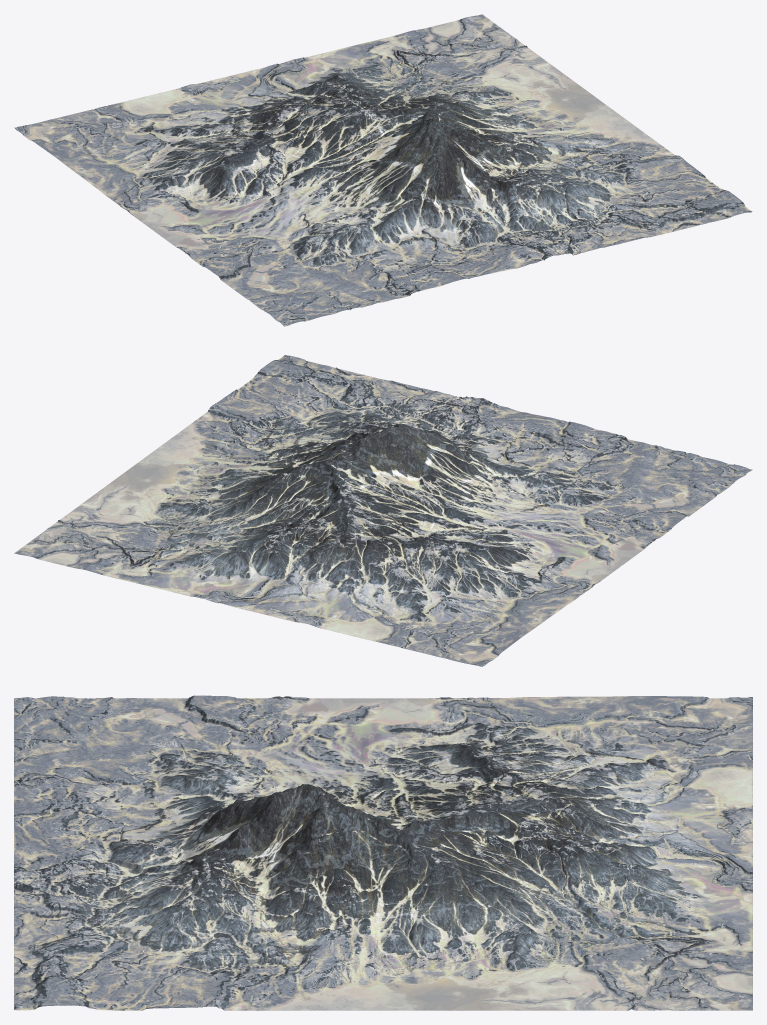
Rendered from snow-mountain.glb.
3 views of the same model, one above another, from view 1: azimuth 30°, elevation 25°; view 2: azimuth 150°, elevation 25°; view 3: azimuth 270°, elevation 25° (orthographic). The views are drawn at different scales.
Bounding box in the file's own units: 800 × 99.52 × 800.
Materials: 1 (1 with a texture image).
